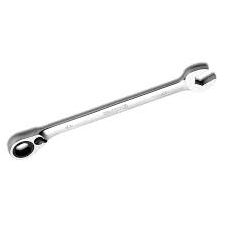Wrench: (6, 60, 225, 159)
